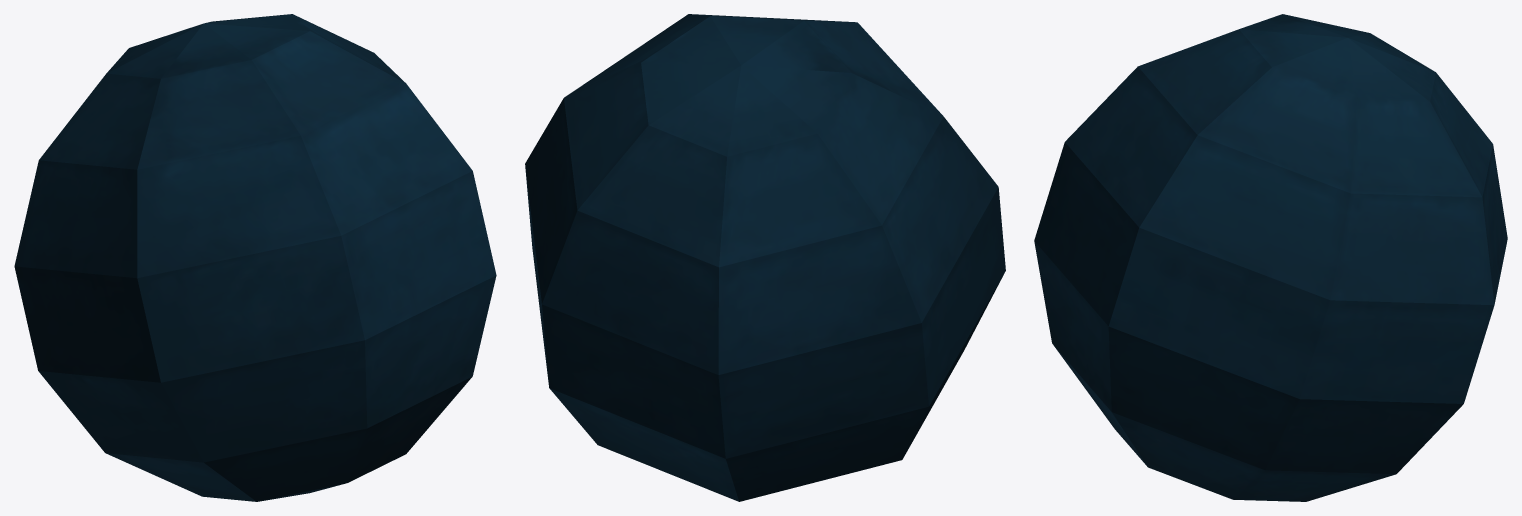
The model's file is Monolith1.fbx.
The picture shows the model from 3 angles, left to right: view 1: azimuth 30°, elevation 25°; view 2: azimuth 150°, elevation 25°; view 3: azimuth 270°, elevation 25°; orthographic projection. The views are drawn at different scales.
Visible parts, largest first — view 1: polySurface1; view 2: polySurface1; view 3: polySurface1.
Boxes of the visible parts, <box> form: polySurface1: <box>14,14,496,501</box>; polySurface1: <box>525,14,1005,501</box>; polySurface1: <box>1034,14,1507,501</box>.
Size of the model in its own units: 1.6 by 1.63 by 1.6.
